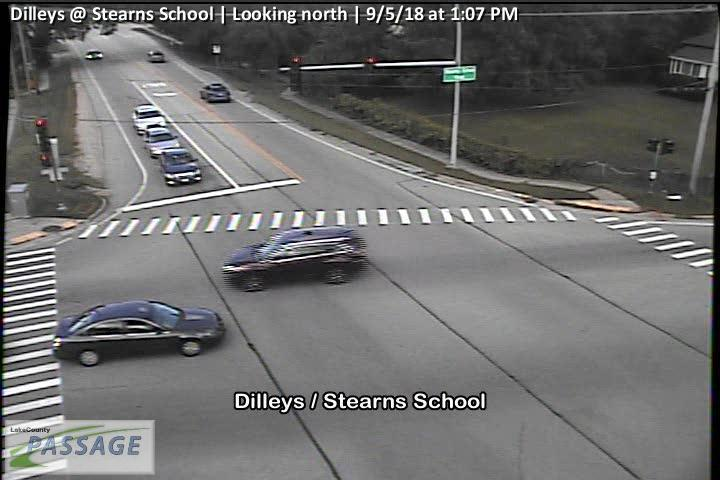SUV: (223, 226, 369, 293), (142, 127, 180, 159), (131, 103, 167, 136)
Sedan: (51, 299, 224, 367), (159, 148, 201, 186), (199, 83, 230, 103), (146, 49, 164, 62), (85, 49, 103, 60)
